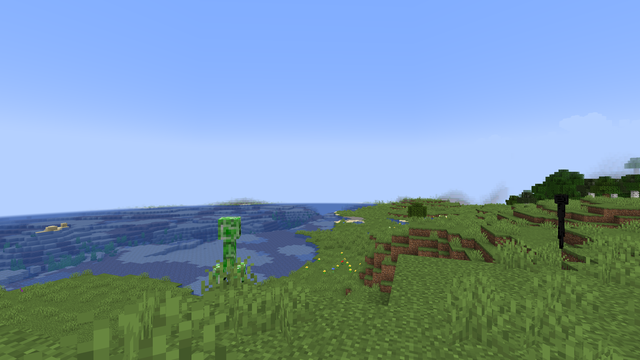creepers: (212, 213, 246, 286)
endermens: (551, 192, 571, 247)
